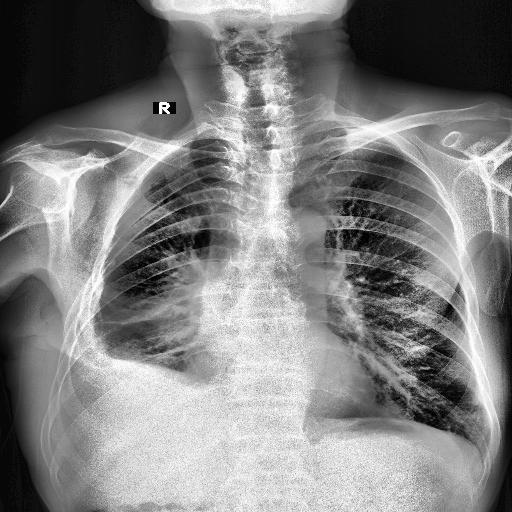0- Aortic enlargement: (270, 204, 326, 248)
10- Pleural effusion: (48, 319, 190, 409), (56, 314, 144, 404), (61, 318, 119, 388)
13- Pulmonary fibrosis: (106, 289, 185, 325), (132, 343, 192, 363)
7- Lung Opacity: (90, 276, 206, 366), (99, 282, 196, 370)
9- Other lesion: (189, 268, 239, 342)
